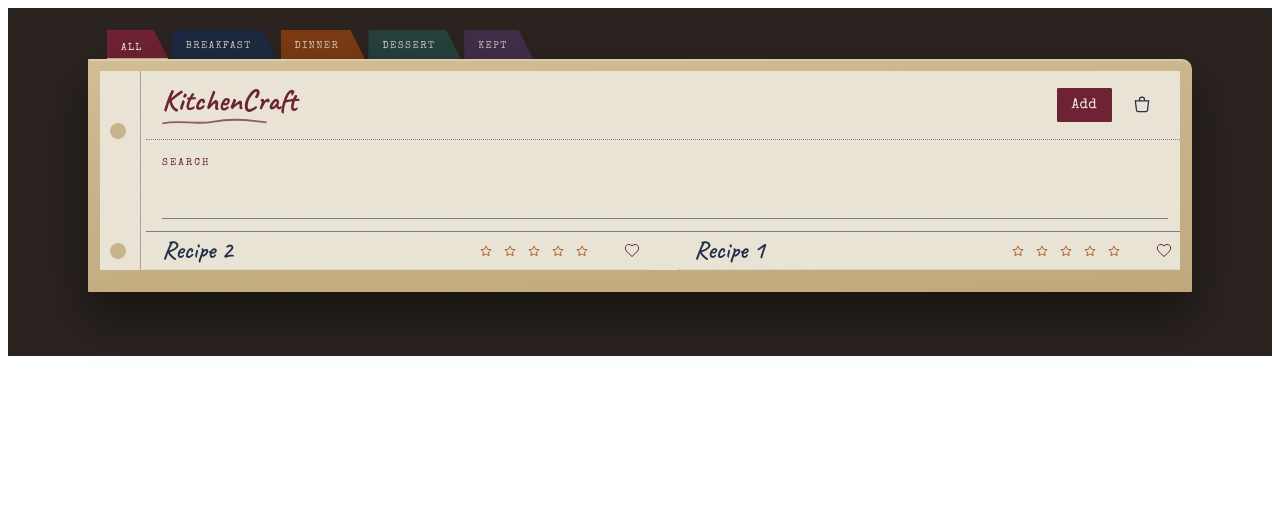
it: the empty favourites view › says so and offers no button, because the action is on the rows behind
The width and height of the screenshot is (1280, 522).
Click the button with test id "tab-kept" at (499, 45), box x1=464 y1=30 x2=534 y2=60
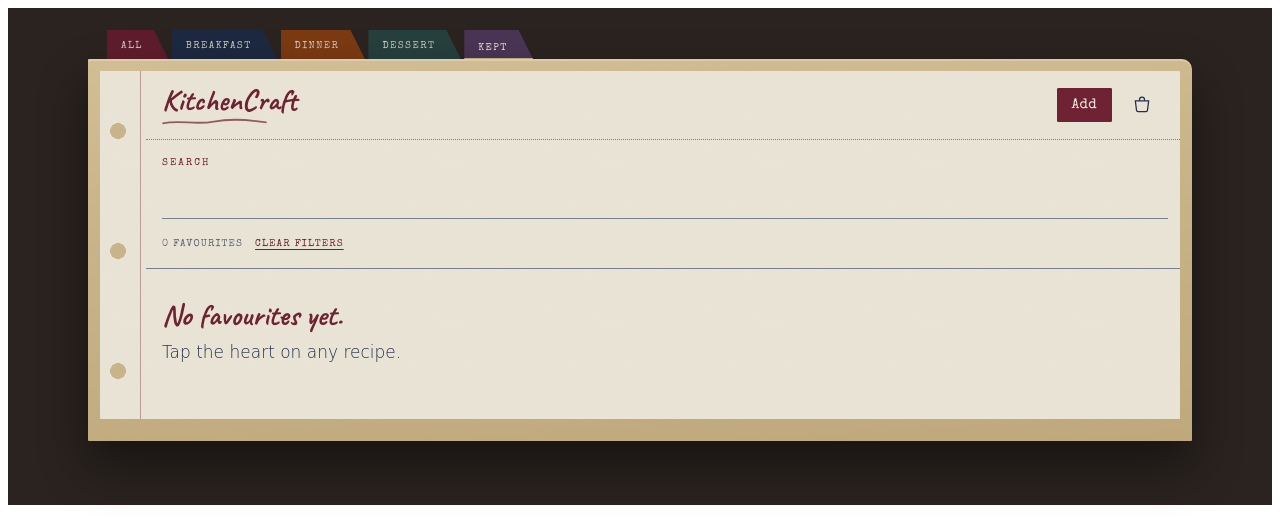
expect the element with test id "empty-favourites" shows "No favourites yet.": met, box x1=162 y1=296 x2=342 y2=334
expect the element with test id "empty-favourites" shows "Tap the heart on any recipe.": met, box x1=162 y1=342 x2=401 y2=362
